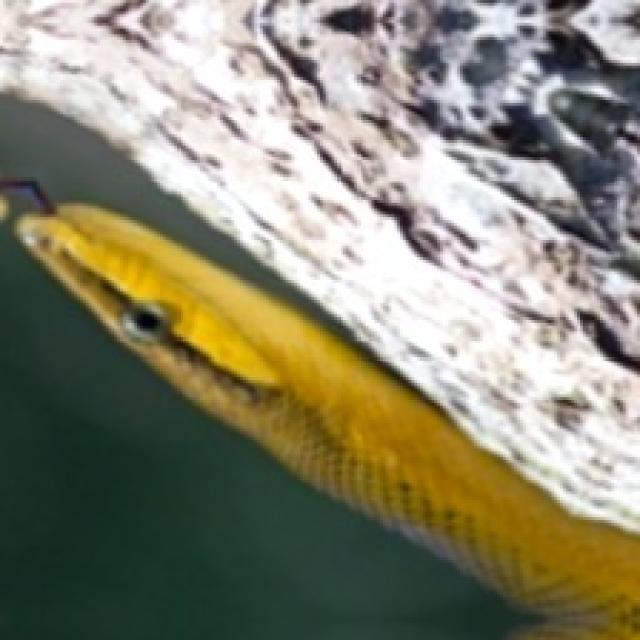red-tailed green ratsnake: (14, 203, 637, 637)
